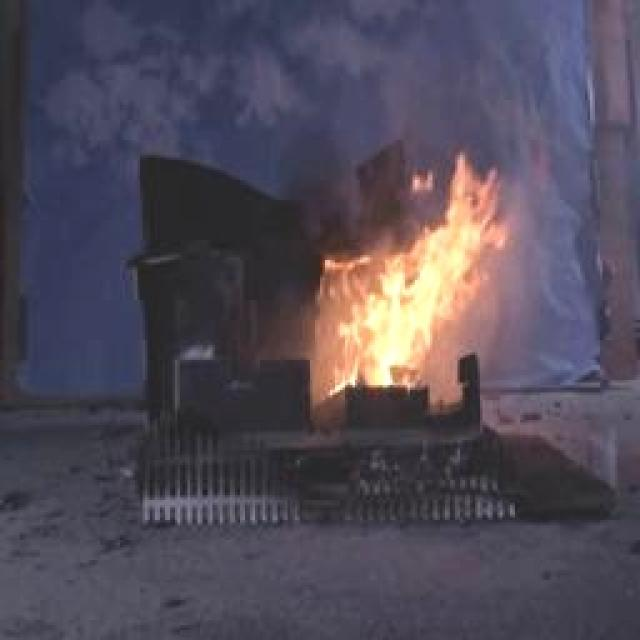fire: (310, 144, 505, 401)
